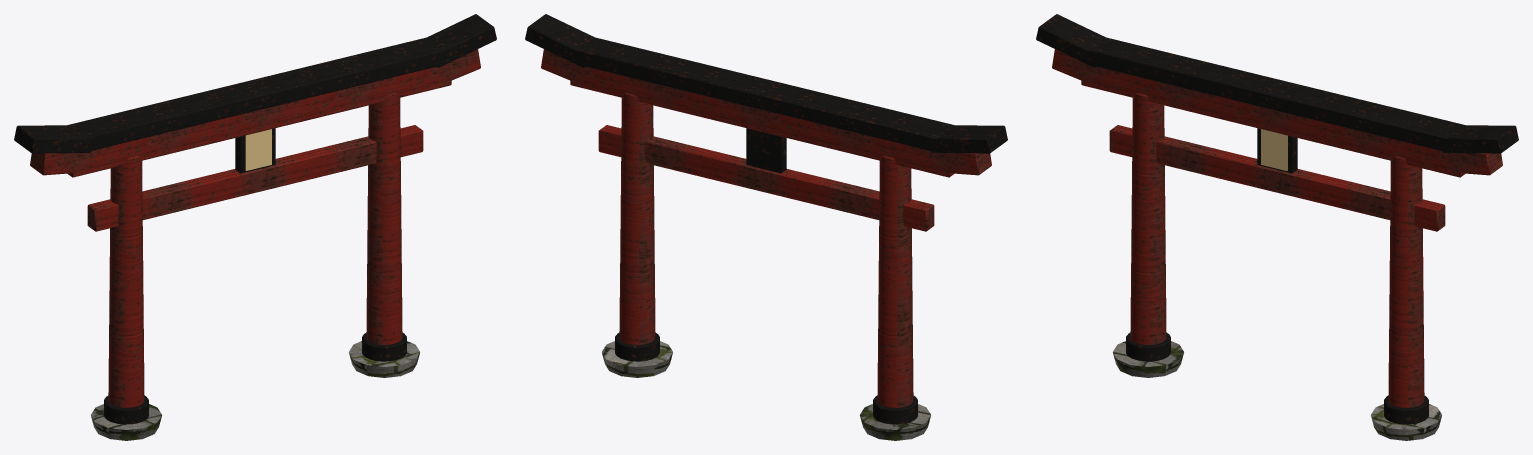
File: Torii.fbx
3 views of the same model, side by side, from view 1: azimuth 30°, elevation 25°; view 2: azimuth 150°, elevation 25°; view 3: azimuth 330°, elevation 25° (orthographic).
Visible parts, largest first — view 1: Torii_LOD0; view 2: Torii_LOD0; view 3: Torii_LOD0.
Boxes of the visible parts, left/top/right/bottom form: Torii_LOD0: left=14, top=14, right=496, bottom=440; Torii_LOD0: left=525, top=14, right=1007, bottom=440; Torii_LOD0: left=1036, top=14, right=1518, bottom=440.
Size of what is drawn, in the model's own units: 9.93 by 6.51 by 1.32.
